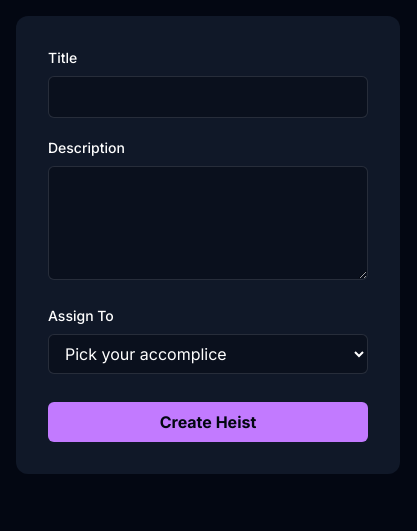
Scenario: CreateHeistForm › shows why the heist could not be created and stays on the page
Type "Liberate the good stapler" into the field labelled "Title".
click(208, 97); type("Liberate the good stapler")  # box left=48, top=76, right=368, bottom=118
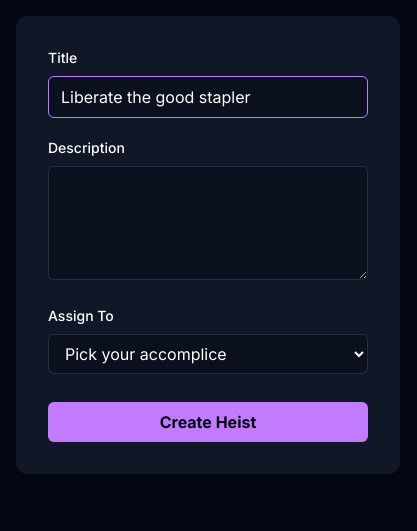
Type "Third desk from the window." into the text box labelled "Description".
click(208, 223); type("Third desk from the window.")  # box left=48, top=166, right=368, bottom=280
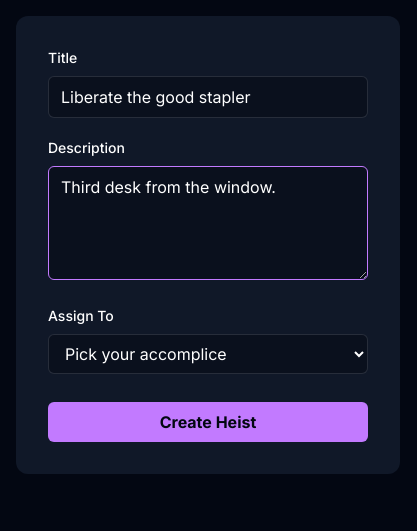
Select "QuietMidnightCrow" in the dropdown labelled "Assign To" at (208, 354), box left=48, top=334, right=368, bottom=374
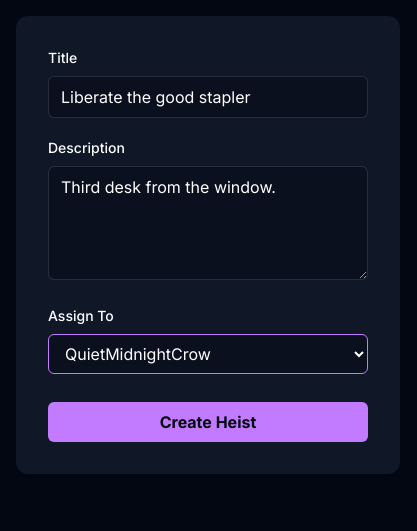
Click the button "Create Heist".
click(208, 422)  # box left=48, top=402, right=368, bottom=442
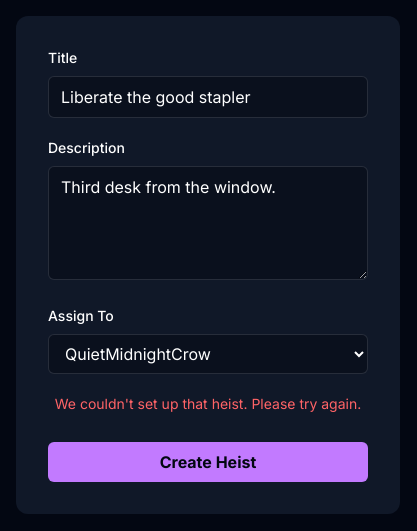
Now the message reads "We couldn't set up that heist. Please try again.", box left=55, top=395, right=361, bottom=412
